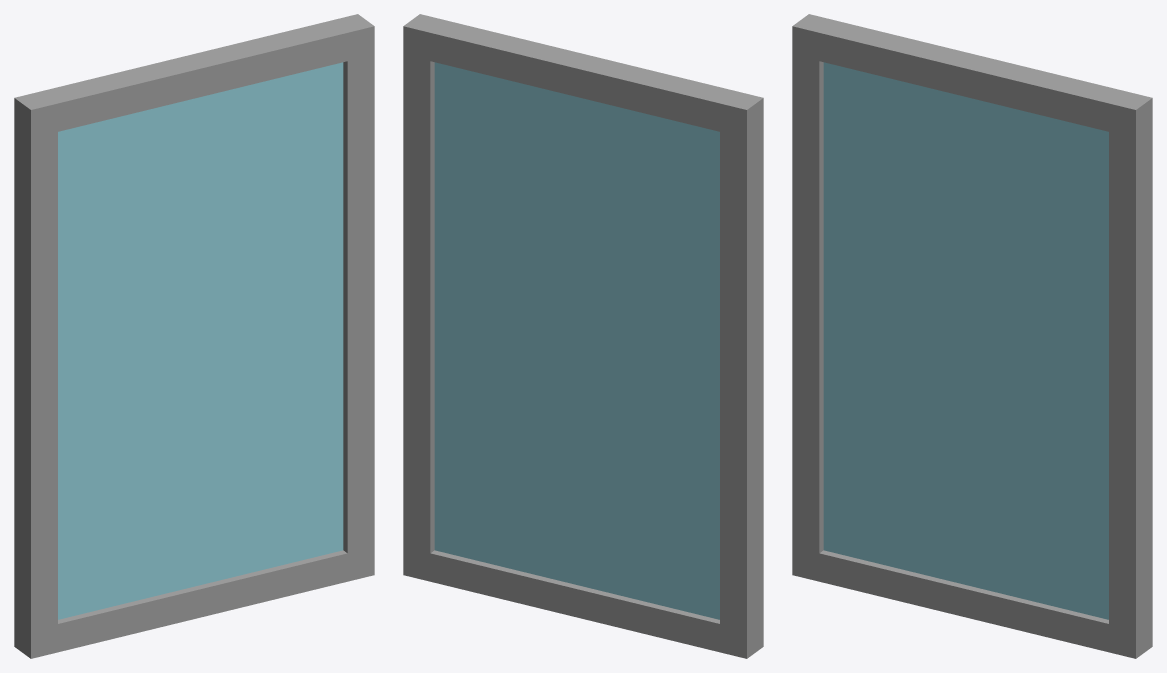
Rendered from Window.fbx.
3 views of the same model, side by side, from view 1: azimuth 30°, elevation 25°; view 2: azimuth 150°, elevation 25°; view 3: azimuth 330°, elevation 25° (orthographic).
Visible parts, largest first — view 1: pCube1; view 2: pCube1; view 3: pCube1.
Part boxes in pixels (x1,y1,x2,y2): pCube1: (14,14,374,658); pCube1: (403,14,763,658); pCube1: (792,14,1152,658).
Size of the model in its own units: 95 by 145 by 8.
